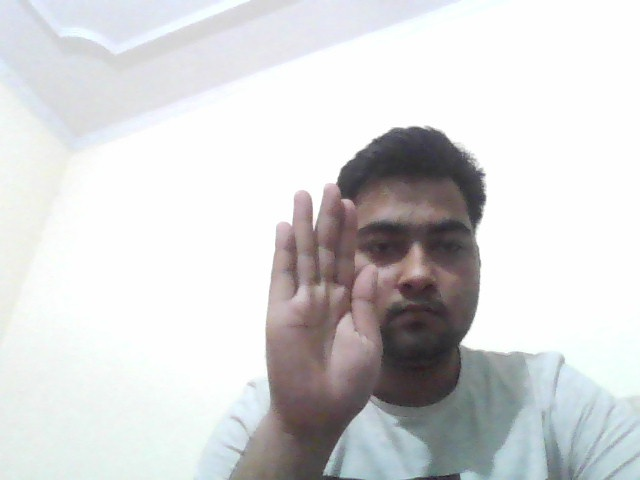Hello: (259, 180, 384, 427)
